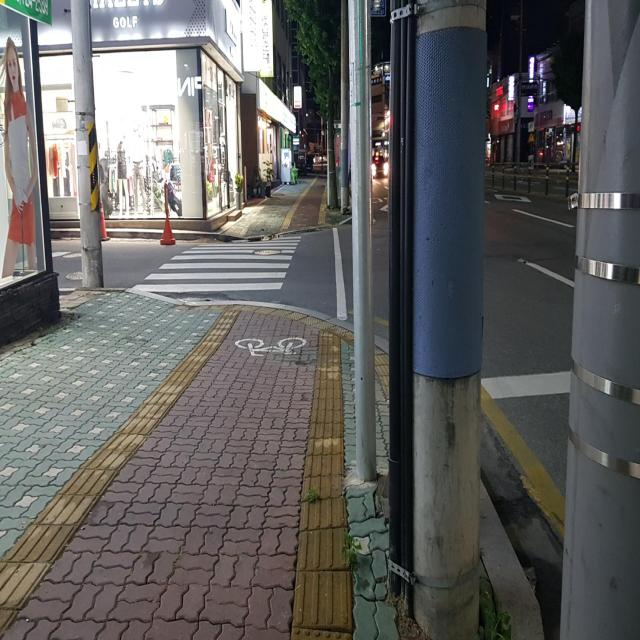횡단보도: (130, 235, 302, 295)
